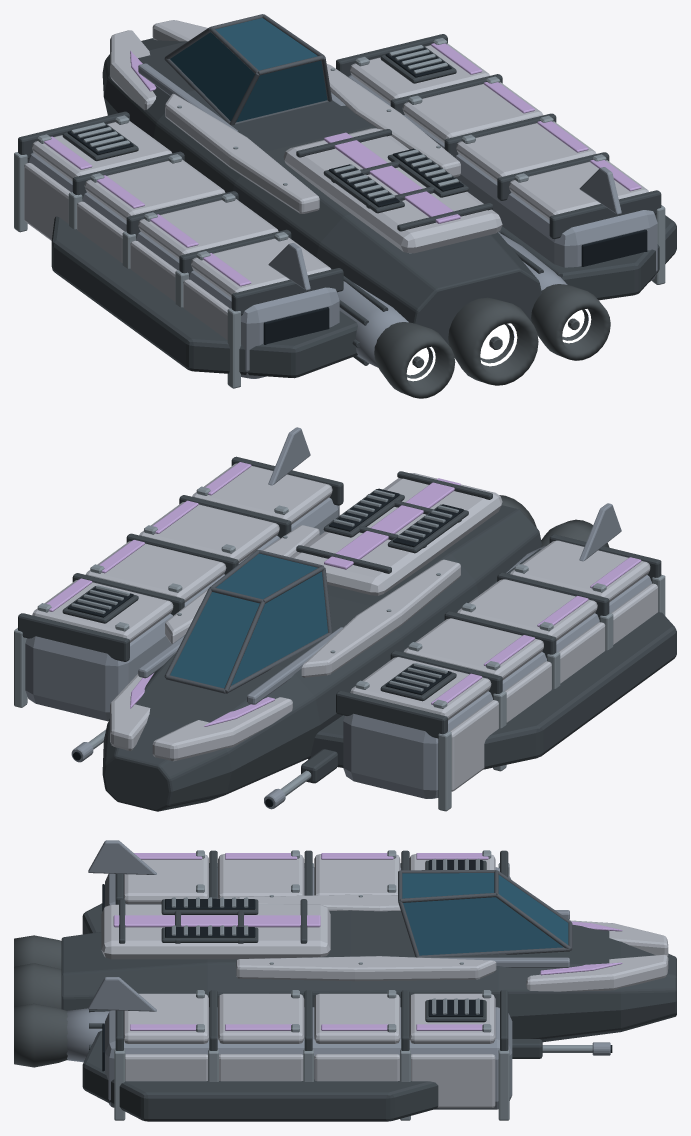
Rendered from atlas.glb.
3 renders of one model, top to bottom at view 1: azimuth 30°, elevation 25°; view 2: azimuth 150°, elevation 25°; view 3: azimuth 270°, elevation 25°, orthographic. The views are drawn at different scales.
Visible parts, largest first — view 1: structural, hull_armor, hull_secondary, engine_nozzle, canopy, gunmetal, accent, vent, cockpit_frame, engine_core; view 2: hull_armor, structural, hull_secondary, canopy, gunmetal, accent, cockpit_frame, vent, engine_nozzle; view 3: hull_armor, structural, hull_secondary, canopy, accent, engine_nozzle, gunmetal, vent, cockpit_frame.
Boxes of the visible parts, left/top/right/bottom form: structural: left=18, top=34, right=676, bottom=378; hull_armor: left=24, top=20, right=648, bottom=339; hull_secondary: left=27, top=63, right=657, bottom=378; engine_nozzle: left=374, top=284, right=610, bottom=398; canopy: left=170, top=18, right=327, bottom=122; gunmetal: left=14, top=38, right=665, bottom=388; accent: left=44, top=43, right=641, bottom=286; vent: left=67, top=47, right=647, bottom=344; cockpit_frame: left=164, top=14, right=332, bottom=125; engine_core: left=406, top=309, right=591, bottom=381; hull_armor: left=32, top=463, right=657, bottom=791; structural: left=18, top=456, right=676, bottom=811; hull_secondary: left=25, top=427, right=651, bottom=809; canopy: left=170, top=553, right=327, bottom=688; gunmetal: left=14, top=486, right=665, bottom=811; accent: left=46, top=462, right=641, bottom=726; cockpit_frame: left=164, top=550, right=332, bottom=693; vent: left=67, top=488, right=463, bottom=807; engine_nozzle: left=499, top=495, right=609, bottom=547; hull_armor: left=101, top=854, right=668, bottom=1107; structural: left=61, top=850, right=676, bottom=1121; hull_secondary: left=66, top=840, right=610, bottom=1109; canopy: left=402, top=873, right=568, bottom=955; accent: left=113, top=853, right=622, bottom=1030; engine_nozzle: left=14, top=935, right=67, bottom=1067; gunmetal: left=114, top=850, right=592, bottom=1120; vent: left=102, top=860, right=612, bottom=1071; cockpit_frame: left=398, top=870, right=572, bottom=957.
Size of the model in its own units: 4.28 by 1.49 by 5.58.
